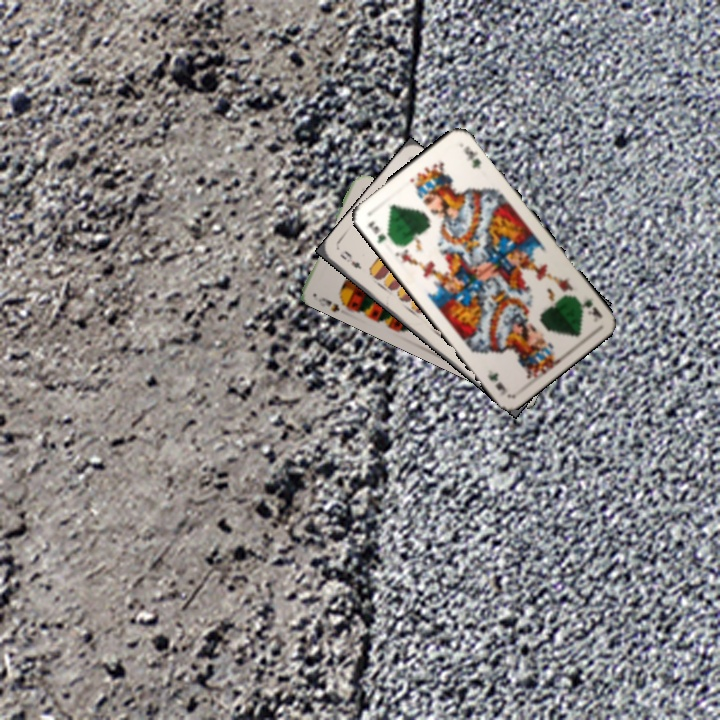E9: (336, 246, 365, 272)
GK: (570, 292, 605, 321), (364, 217, 389, 246)
S9: (314, 293, 352, 314)
